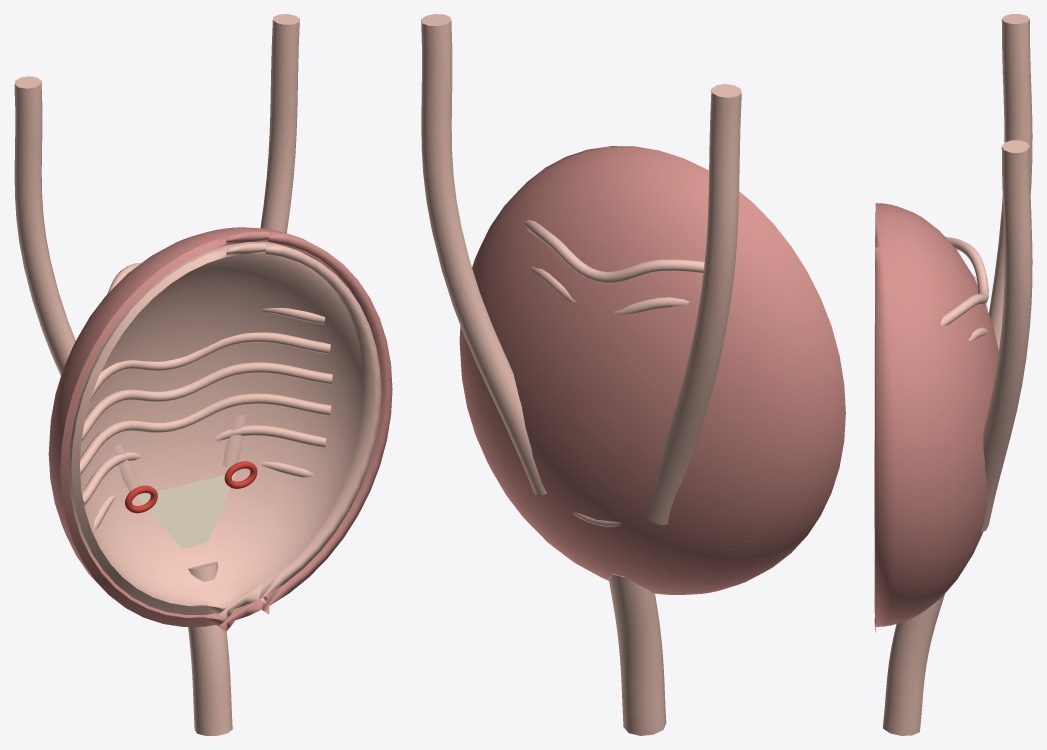
Rendered from bladder.c66805af.glb.
The picture shows the model from 3 angles, left to right: view 1: azimuth 30°, elevation 25°; view 2: azimuth 150°, elevation 25°; view 3: azimuth 270°, elevation 25°; orthographic projection. The views are drawn at different scales.
Visible parts, largest first — view 1: Urothelium, Detrusor wall, Ureter -1, Ureter 1, Urethra, Trigone, Mucosal ruga 5, Mucosal ruga 4, Mucosal ruga 3, Mucosal ruga 6, Mucosal ruga 7; view 2: Detrusor wall, Ureter 1, Ureter -1, Urethra, Mucosal ruga 0, Mucosal ruga 1; view 3: Detrusor wall, Ureter 1, Ureter -1, Urethra, Mucosal ruga 0.
Boxes of the visible parts, <box> form: Urothelium: <box>69,242,381,619</box>; Detrusor wall: <box>48,227,392,631</box>; Ureter -1: <box>14,76,139,491</box>; Ureter 1: <box>223,14,299,467</box>; Urethra: <box>188,561,232,735</box>; Trigone: <box>137,472,236,548</box>; Mucosal ruga 5: <box>80,393,331,474</box>; Mucosal ruga 4: <box>81,362,332,440</box>; Mucosal ruga 3: <box>90,332,330,400</box>; Mucosal ruga 6: <box>82,425,326,505</box>; Mucosal ruga 7: <box>94,461,313,529</box>; Detrusor wall: <box>459,146,845,594</box>; Ureter 1: <box>421,14,547,495</box>; Ureter -1: <box>647,84,741,525</box>; Urethra: <box>608,573,666,735</box>; Mucosal ruga 0: <box>525,220,704,283</box>; Mucosal ruga 1: <box>531,266,689,314</box>; Detrusor wall: <box>874,203,998,632</box>; Ureter 1: <box>981,140,1032,532</box>; Ureter -1: <box>989,14,1032,350</box>; Urethra: <box>883,594,944,735</box>; Mucosal ruga 0: <box>940,237,988,325</box>.
Size of the model in its own units: 2.07 by 3.8 by 0.8409.
